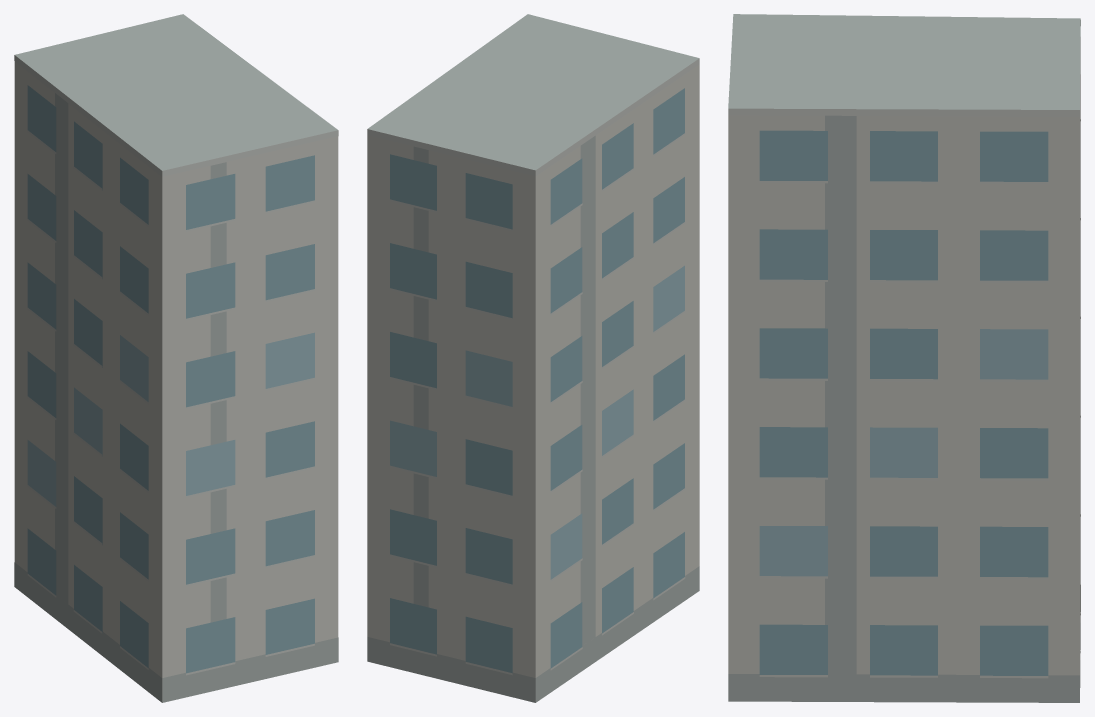
File: survey-upis-33045725.glb
The picture shows the model from 3 angles, left to right: view 1: azimuth 30°, elevation 25°; view 2: azimuth 150°, elevation 25°; view 3: azimuth 270°, elevation 25°; orthographic projection. The views are drawn at different scales.
Visible parts, largest first — view 1: survey-upis-33045725.tmp; view 2: survey-upis-33045725.tmp; view 3: survey-upis-33045725.tmp.
Boxes of the visible parts, bbox=[...] form: survey-upis-33045725.tmp: bbox=[14, 14, 338, 702]; survey-upis-33045725.tmp: bbox=[367, 14, 699, 702]; survey-upis-33045725.tmp: bbox=[728, 14, 1080, 702].
Size of the model in its own units: 7.44 by 21.4 by 11.55.
